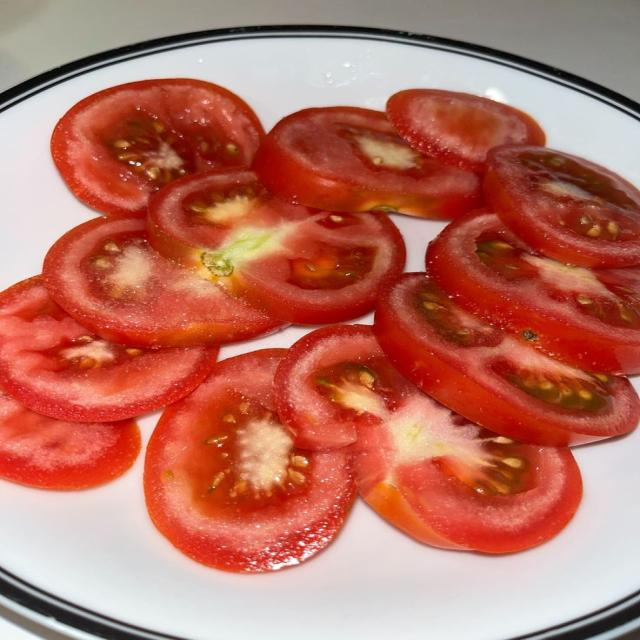sliced_tomato: (145, 350, 355, 572), (374, 274, 639, 446), (148, 169, 405, 324), (354, 387, 581, 553), (427, 212, 639, 373), (0, 276, 217, 422), (43, 218, 282, 346), (52, 79, 263, 215), (253, 107, 482, 219), (484, 145, 639, 267), (275, 325, 413, 450), (0, 390, 140, 489), (387, 89, 545, 172)
